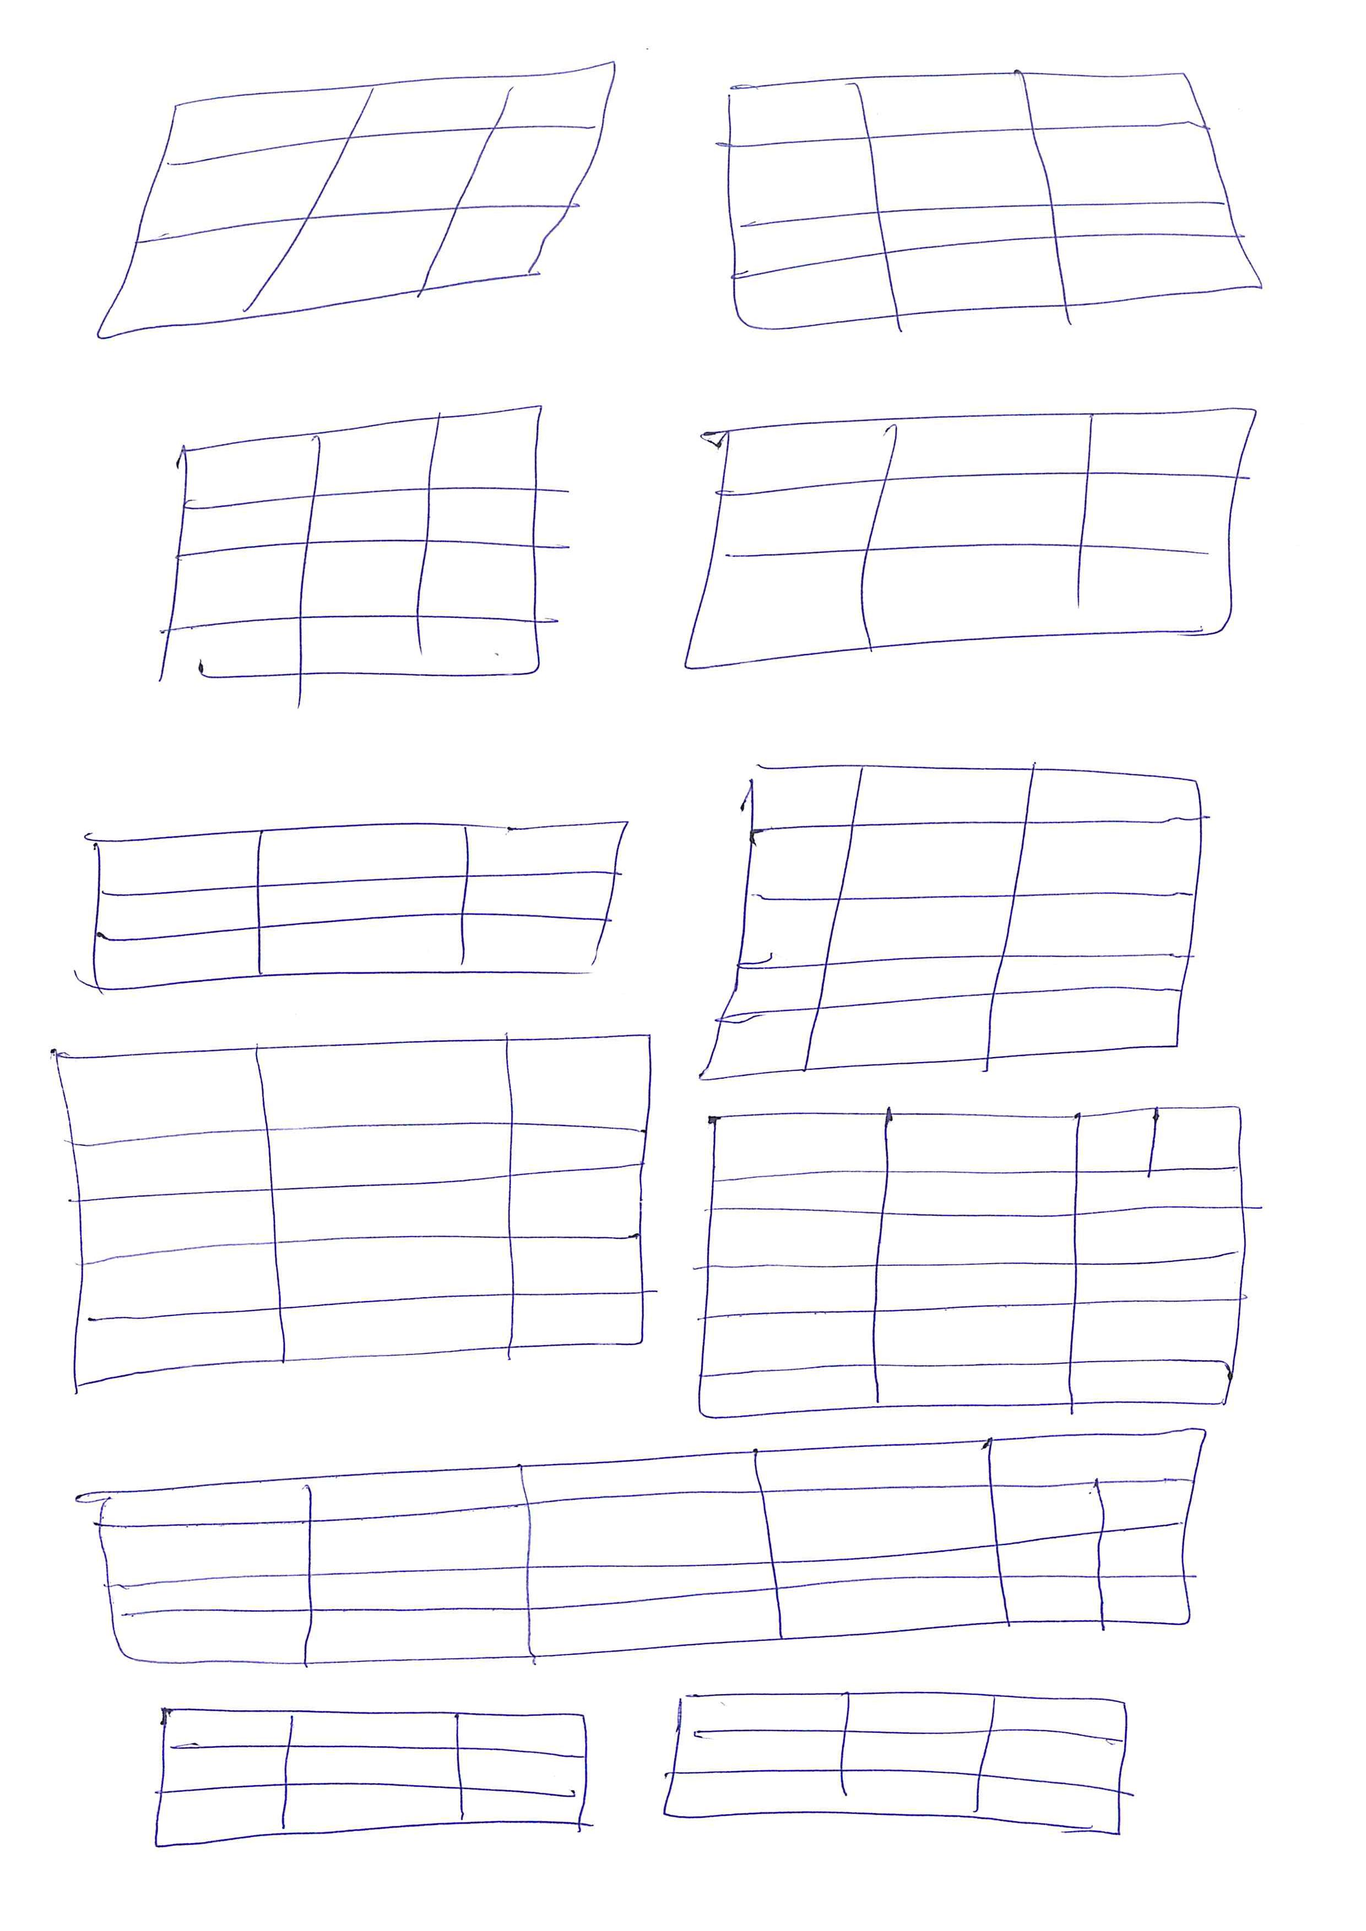Table: (83, 1422, 1212, 1674), (44, 1029, 659, 1400), (686, 1103, 1251, 1415), (689, 761, 1209, 1085), (674, 401, 1260, 679), (89, 53, 624, 345), (718, 67, 1271, 333), (148, 404, 551, 696), (77, 809, 627, 997), (656, 1689, 1129, 1844), (149, 1699, 596, 1856)
